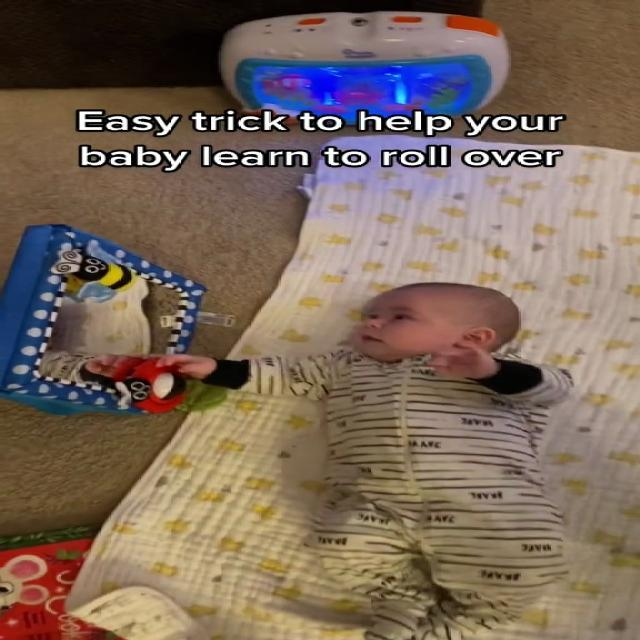baby: (142, 280, 578, 640)
